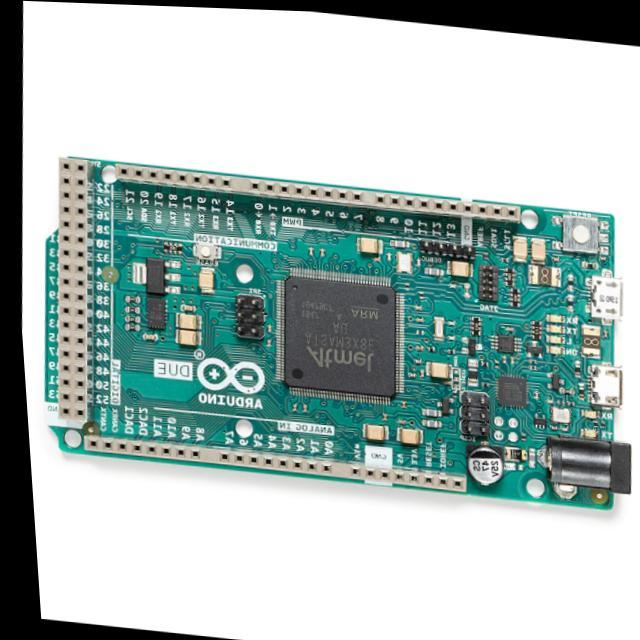Arduino-Due: (45, 159, 630, 510)
